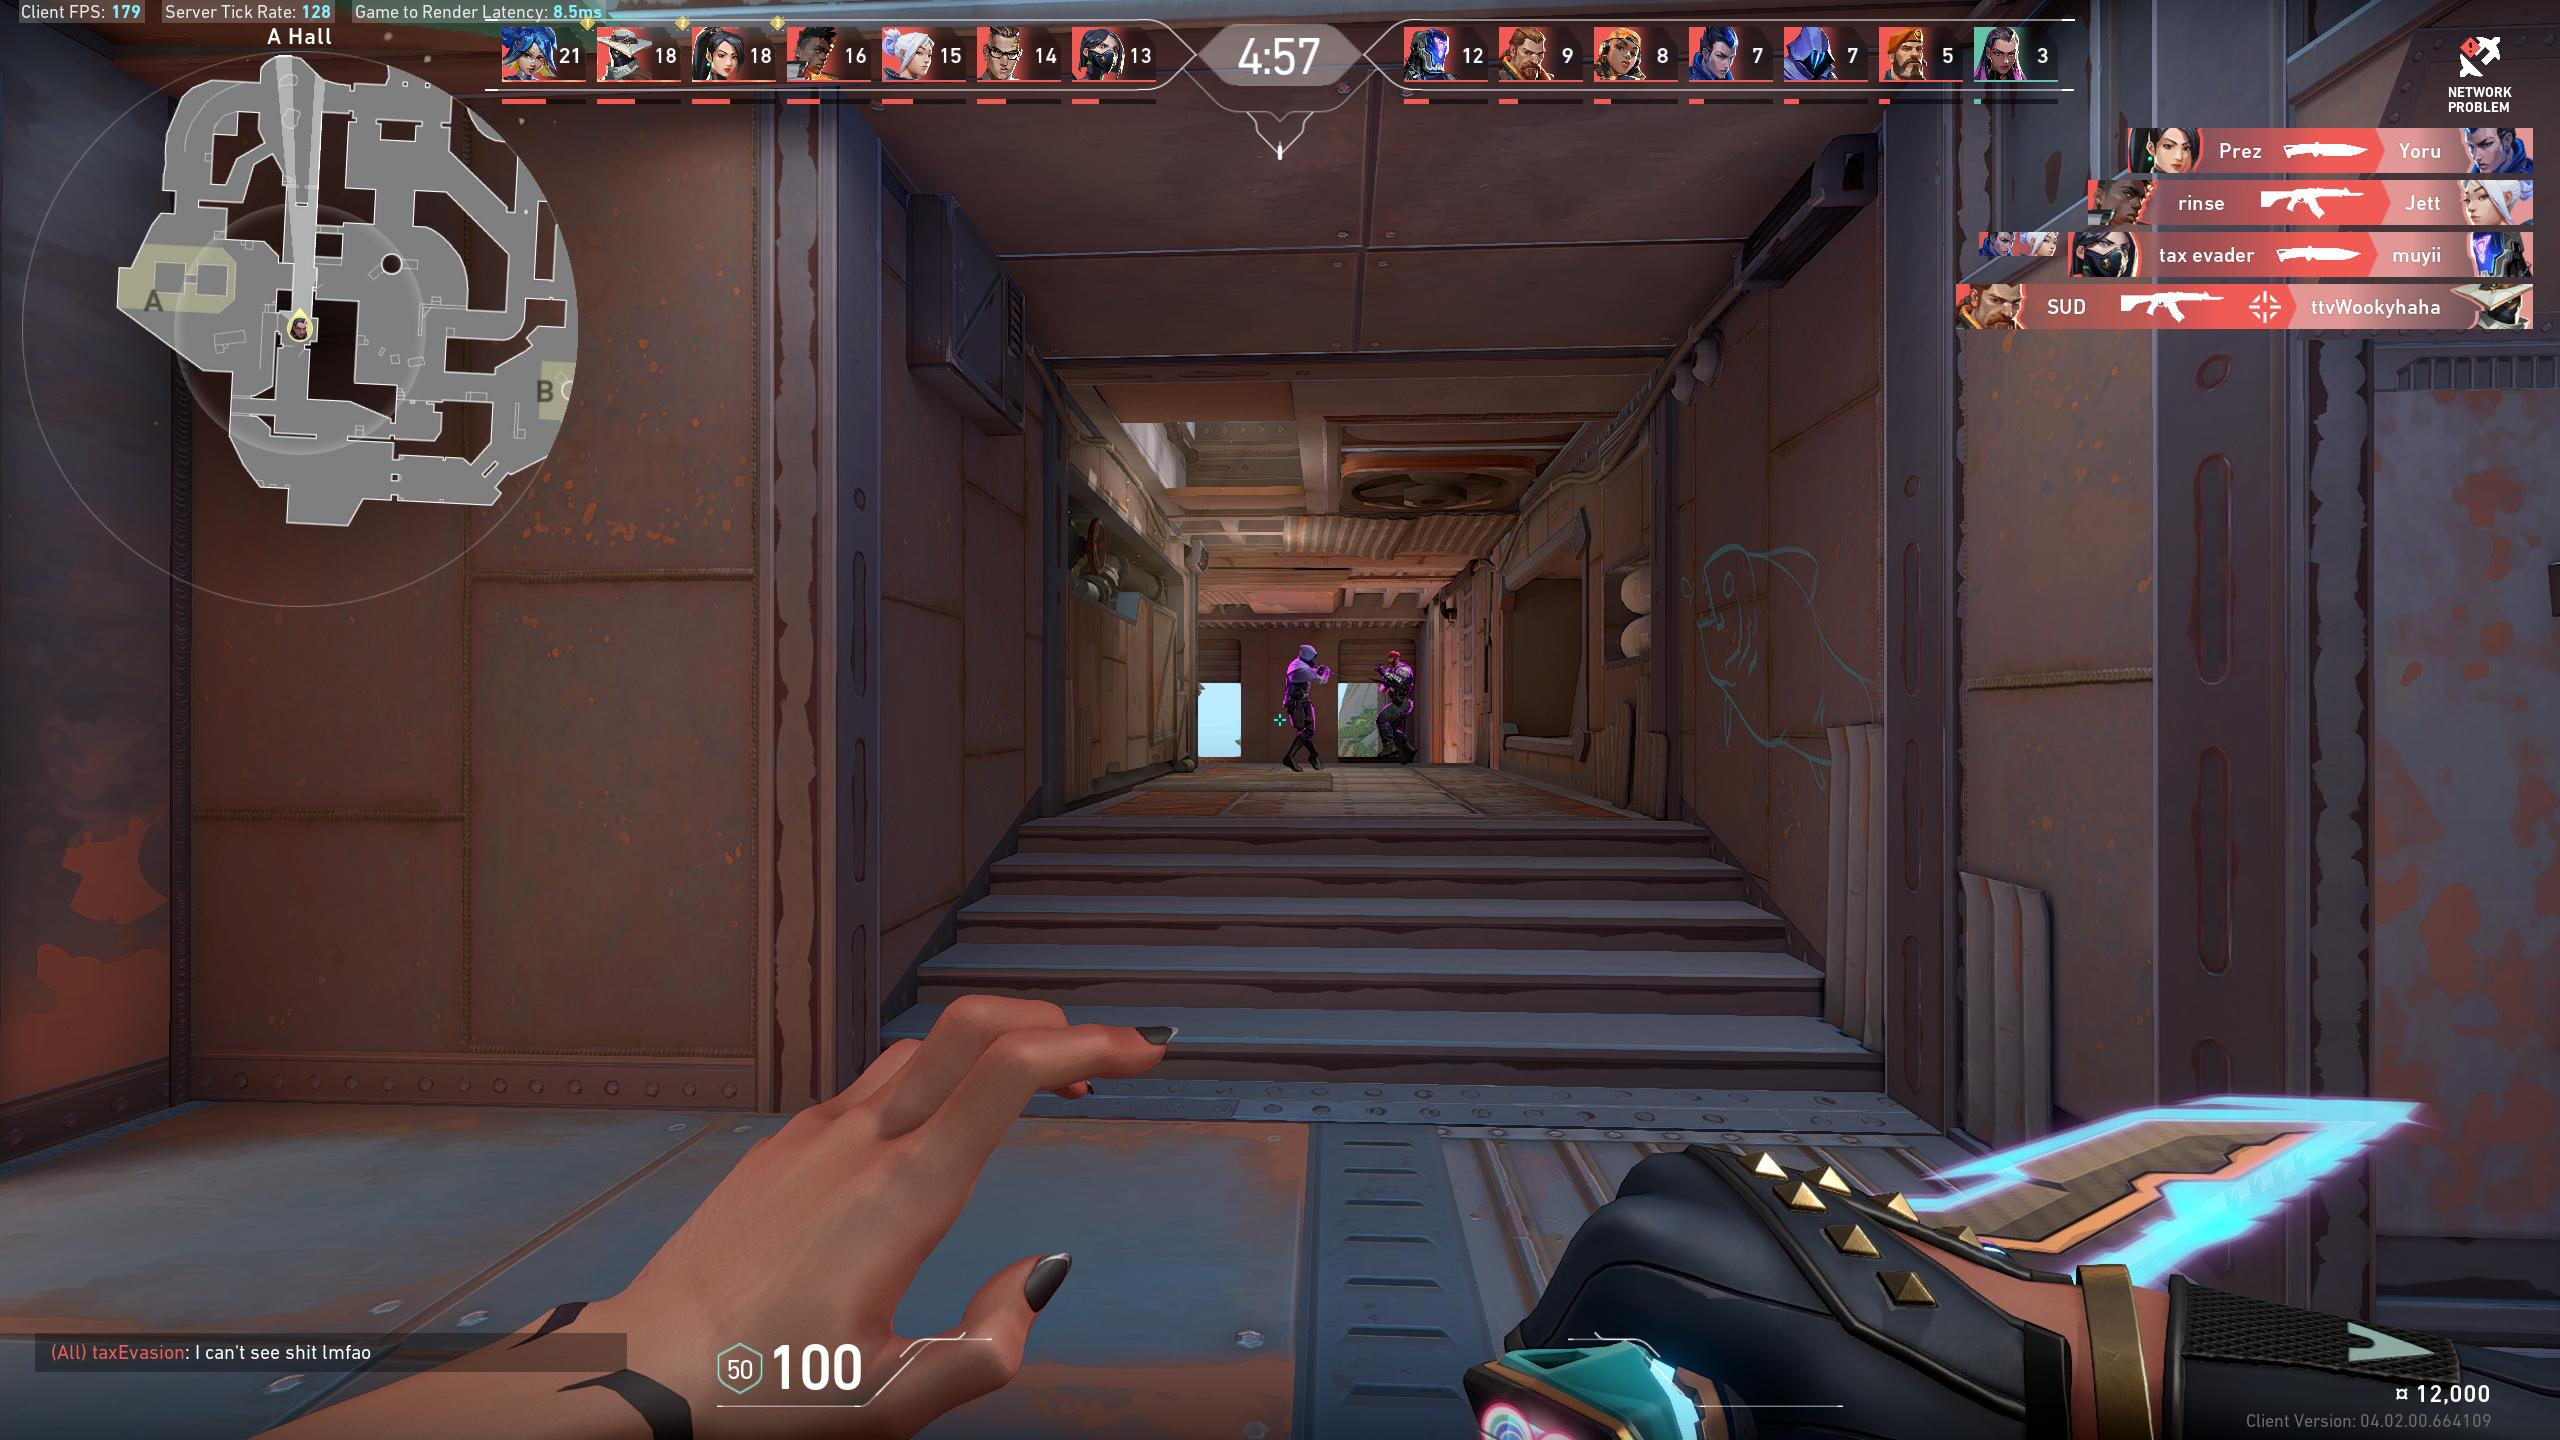enemyBody: (1289, 665, 1308, 696), (1389, 668, 1405, 691)
enemyHead: (1301, 649, 1313, 663), (1387, 654, 1398, 666)
